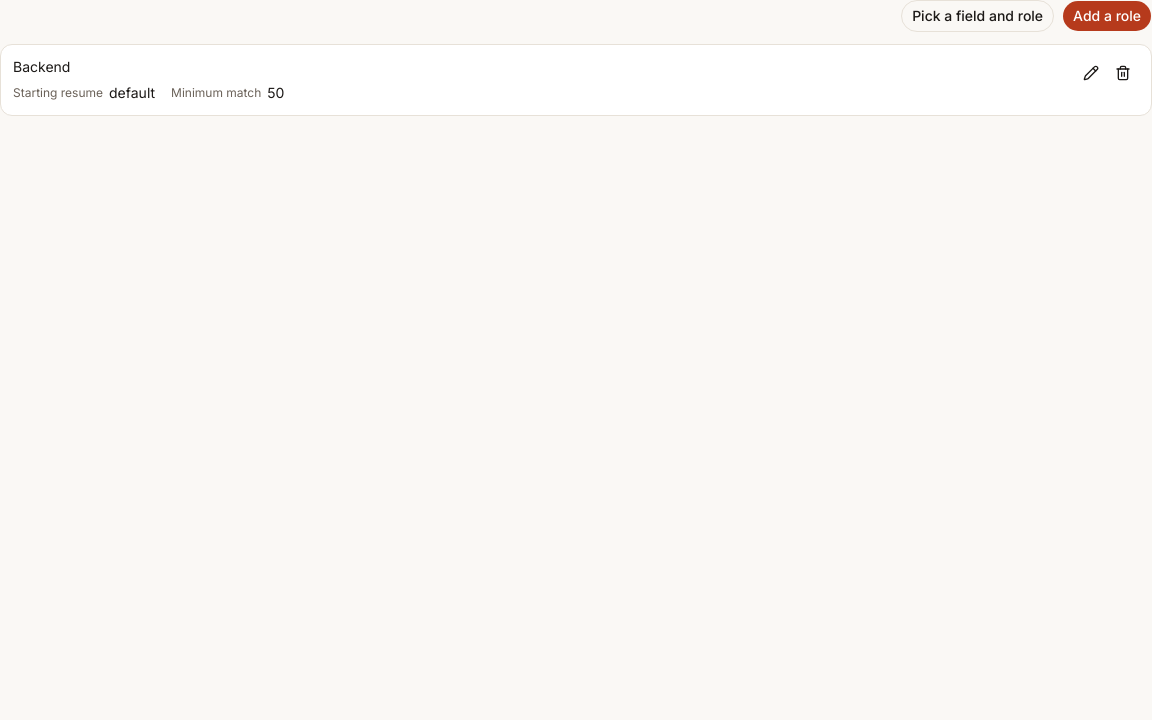
it: TracksTab › opens the track editor as a centred dialog, not a sheet, with Save reachable
Click the button named "edit backend". click: click(1091, 73)
box: [1075, 57, 1107, 89]
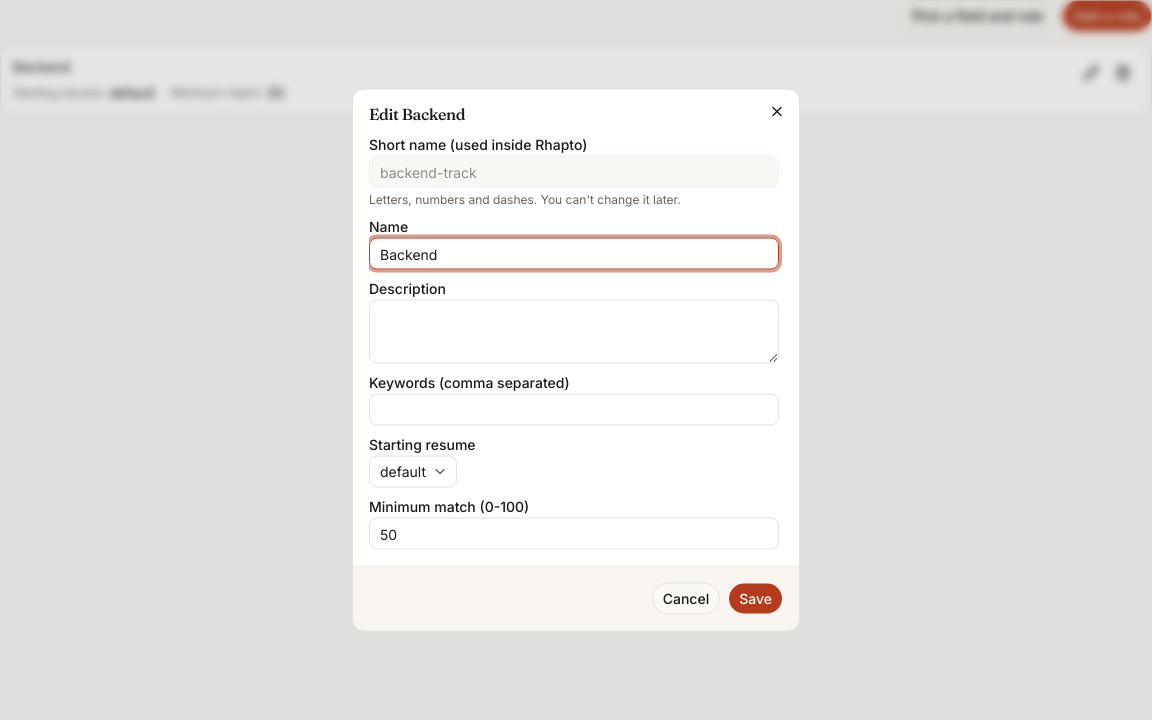
Expected: the dialog is shown, [352, 88, 800, 632]
Expected: the button "Save" is shown, [728, 582, 783, 614]
